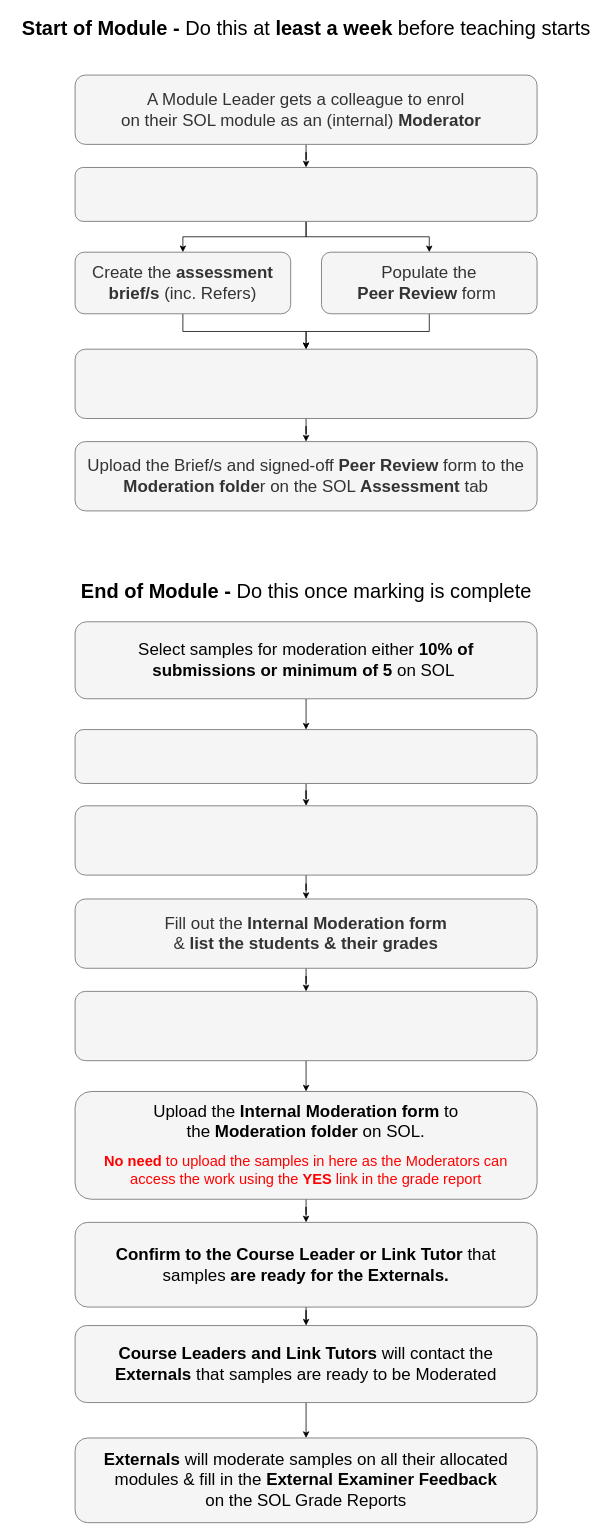
Some shapes in this 611 by 1536 pixel diagram are drawn without their labels. The centre of each missing label's shape, as x and y in pixels:
Check they have all been correctly presented in the Grade Report: (305,840)
Get the (internal) Moderator to check brief/s & sign the Peer Review form: (305,383)
Get the Internal Moderator to review the samples & sign-off the form: (305,1026)
Make sure they cover the range of grades awarded: (305,756)
Make sure they select the role of Moderator: (305,194)
